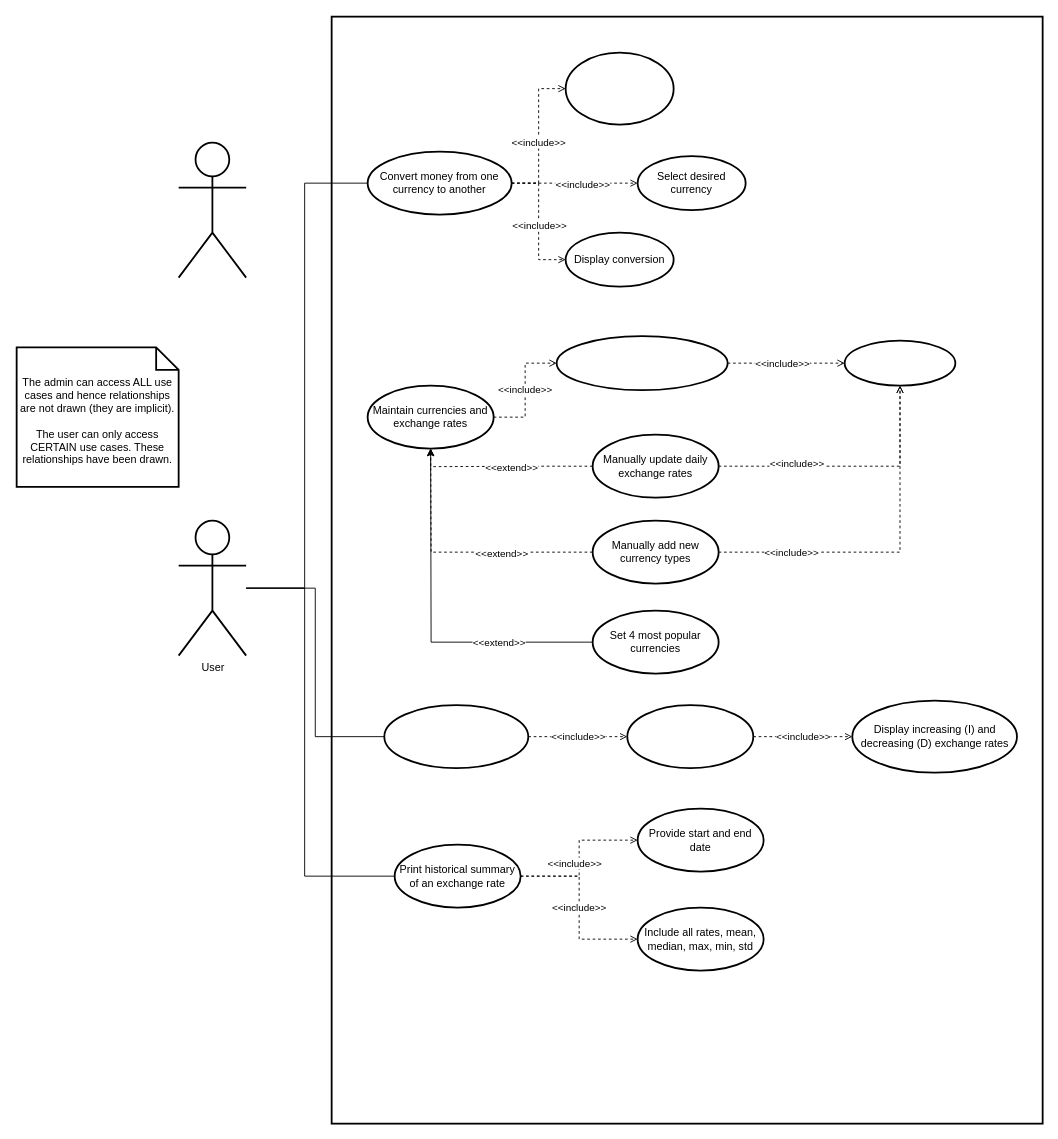
Image size: 1058x1139. Some labels were removed from this diagram. Here are the shapes that lost their labels. From the top down, the centre of each, then its label:
At point 619,88: "Input amount of a specific currency".
At point 212,209: "Admin".
At point 641,363: "Auto-update daily exchange rates each time the application is run".
At point 899,362: "Update database".
At point 456,736: "View 4 popular currencies and exchange rates".
At point 690,736: "Display 5x5 table".
